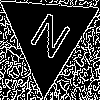N: (23, 10, 73, 68)
